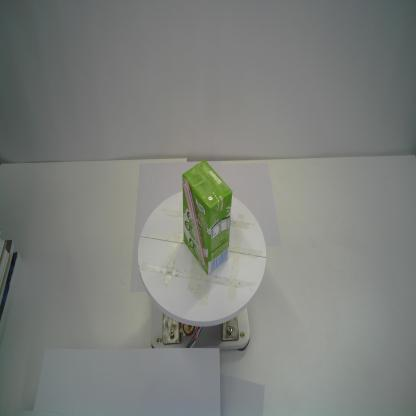Milk: (181, 159, 233, 276)
